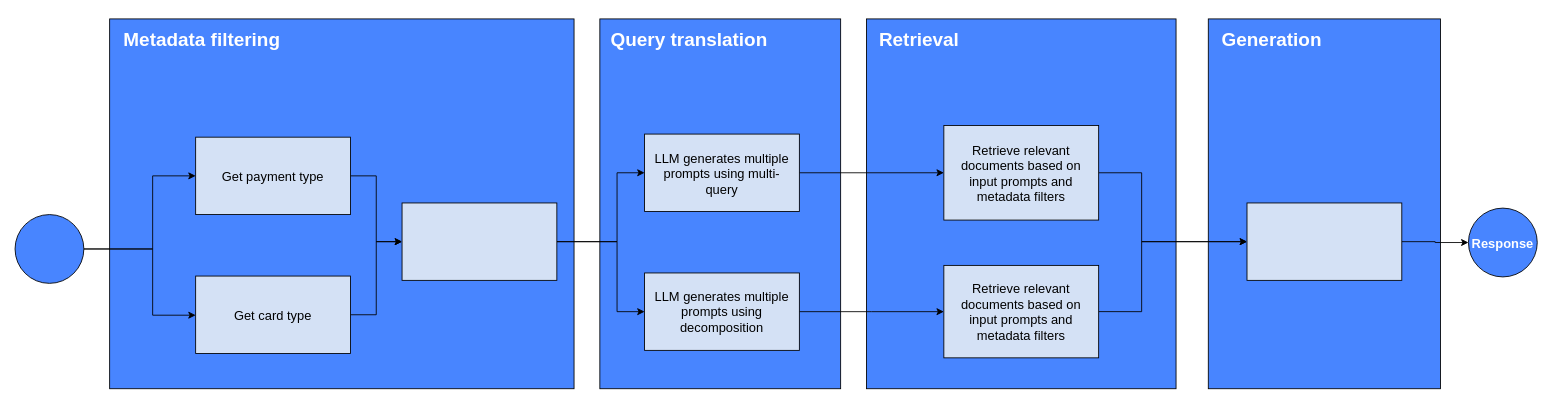
The diagram is 1552 pixels wide and 404 high, and some of its shapes have lost their labels. Here are the shapes that lost their labels. From the top down, the centre of each, then its label:
At point (49, 248): "Query".
At point (479, 241): "Construct filters based on payment and card types".
At point (1324, 241): "Generate response based on retrieved documents".
